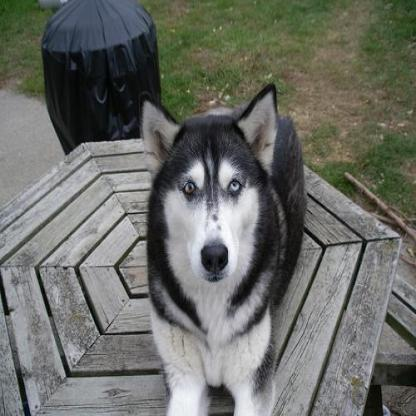Eskimo_dog: (141, 80, 307, 414)
